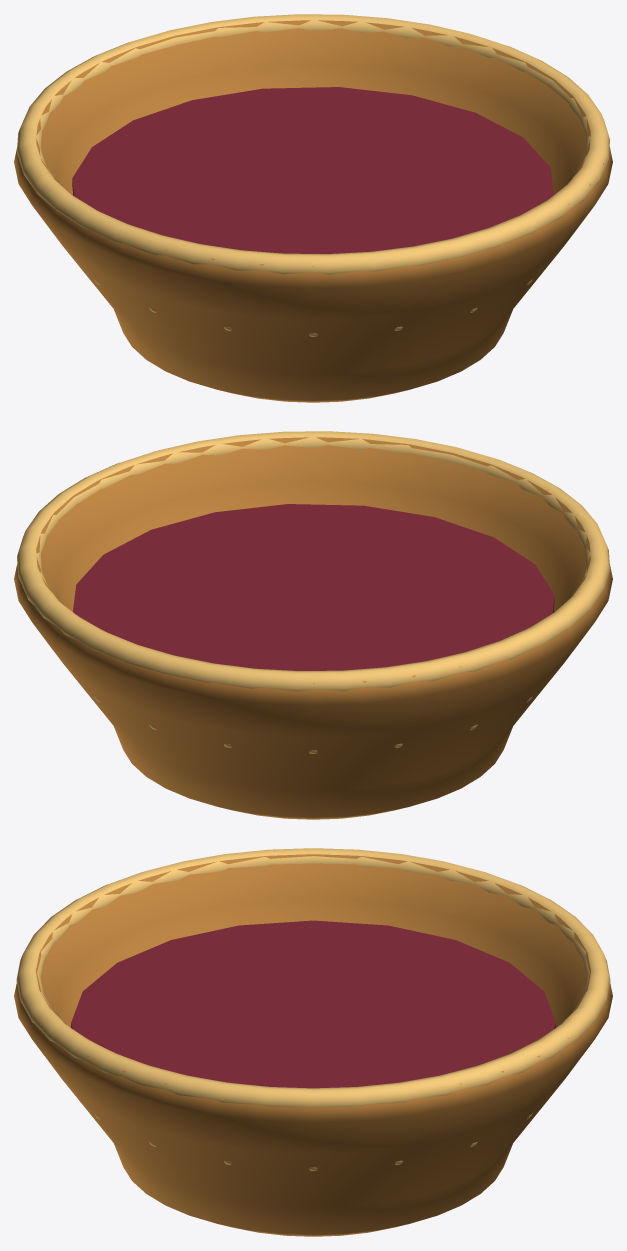
The model's file is mia-bowl.glb.
The picture shows the model from 3 angles, top to bottom: view 1: azimuth 30°, elevation 25°; view 2: azimuth 150°, elevation 25°; view 3: azimuth 270°, elevation 25°; orthographic projection.
Parts seen in each view (by area): view 1: Body_brass, Body_velvet, Body_trim; view 2: Body_brass, Body_velvet, Body_trim; view 3: Body_brass, Body_velvet, Body_trim.
Boxes of the visible parts, bbox=[...] form: Body_brass: bbox=[14, 20, 612, 402]; Body_velvet: bbox=[72, 87, 553, 253]; Body_trim: bbox=[17, 14, 609, 336]; Body_brass: bbox=[14, 437, 612, 819]; Body_velvet: bbox=[73, 504, 554, 670]; Body_trim: bbox=[17, 431, 609, 753]; Body_brass: bbox=[14, 854, 612, 1236]; Body_velvet: bbox=[71, 920, 555, 1088]; Body_trim: bbox=[16, 848, 610, 1171].
Bounding box in the file's own units: 0.242 × 0.0889 × 0.242.
